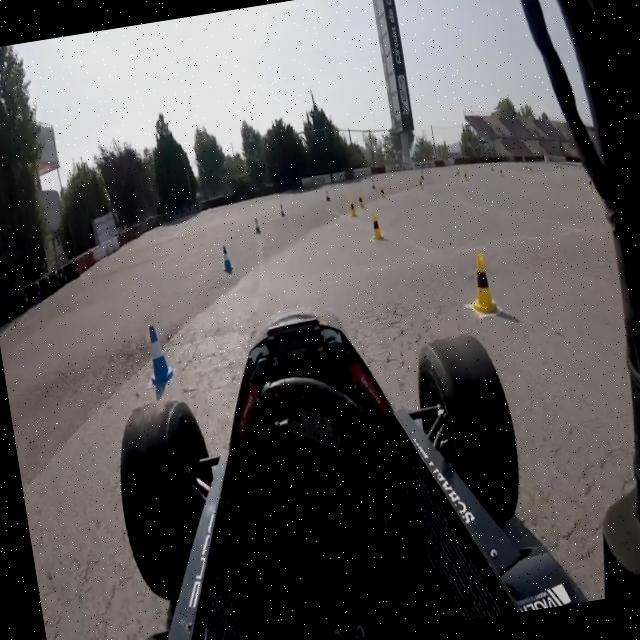blue_cone: (142, 322, 176, 387), (220, 243, 236, 277), (252, 214, 264, 238), (277, 201, 287, 219), (323, 188, 331, 205), (370, 176, 378, 192)
yellow_cone: (464, 250, 501, 320), (368, 210, 386, 242), (584, 173, 596, 197), (348, 198, 358, 218), (356, 192, 366, 212), (378, 183, 386, 200), (418, 178, 424, 190)
